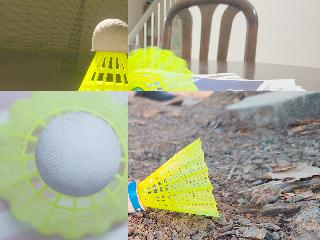shuttlecock: (0, 91, 127, 239), (128, 137, 220, 217), (59, 18, 127, 90), (128, 46, 196, 90)
